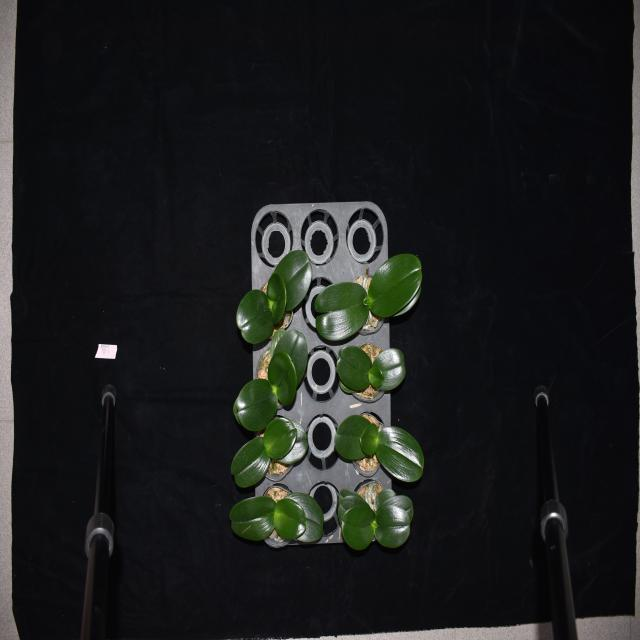leaf: (366, 256, 424, 319), (316, 282, 368, 339), (378, 427, 424, 480), (280, 491, 324, 546), (272, 251, 310, 314), (340, 489, 376, 552), (275, 327, 308, 390), (238, 286, 272, 344), (230, 436, 270, 485), (236, 378, 275, 428), (334, 414, 375, 458), (231, 501, 276, 539), (271, 422, 307, 467), (376, 505, 414, 546), (270, 351, 298, 405), (337, 347, 370, 390), (373, 350, 407, 390), (264, 420, 295, 458), (276, 499, 305, 538), (266, 268, 287, 320), (382, 491, 414, 519), (359, 424, 378, 452)
